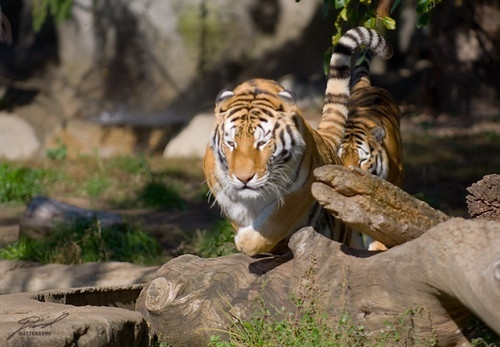tigre: (197, 37, 352, 256), (339, 70, 404, 185)
